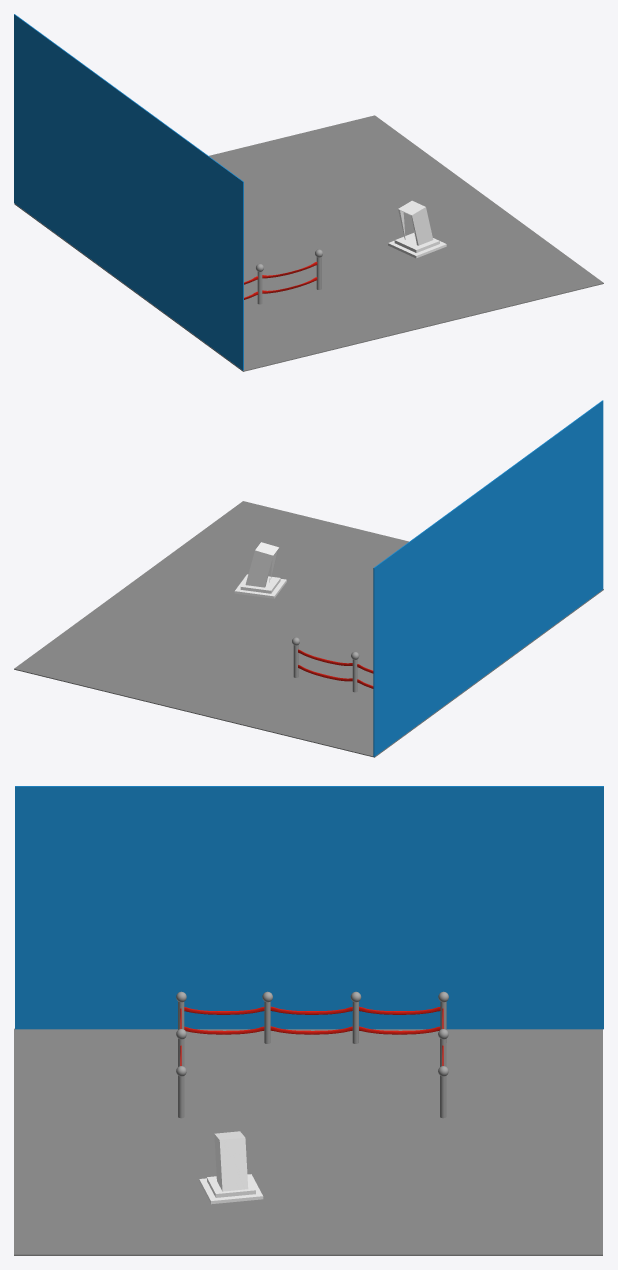
The picture shows the model from 3 angles, top to bottom: view 1: azimuth 30°, elevation 25°; view 2: azimuth 150°, elevation 25°; view 3: azimuth 270°, elevation 25°; orthographic projection. The views are drawn at different scales.
Visible parts, largest first — view 1: Cube.022, Cube.029, Cube.026; view 2: Cube.022, Cube.029, Cube.026; view 3: Cube.029, Cube.022, Cube.026, Cube.025.
Part boxes in pixels (x1,y1,x2,y2): Cube.022: (14,115,603,371); Cube.029: (14,14,243,370); Cube.026: (398,200,433,245); Cube.022: (14,501,603,757); Cube.029: (373,400,603,756); Cube.026: (245,542,279,587); Cube.029: (15,786,603,1029); Cube.022: (14,1028,602,1255); Cube.026: (214,1131,248,1191); Cube.025: (199,1174,263,1204).
Bounding box in the file's own units: 20 × 10.22 × 22.04.
